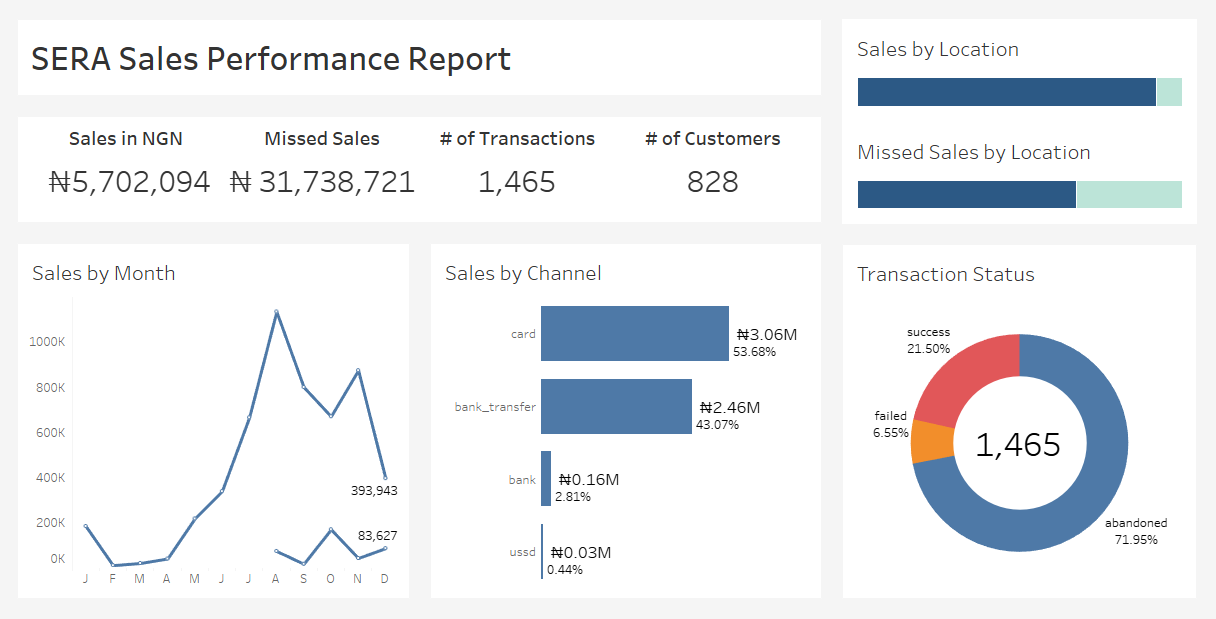

The dashboard page shown, as its layout file describes it:
{"tool":"tableau","page":{"name":"SERA Sales Dashboard","canvas":[1200,600],"ordinal":0},"visuals":[{"type":"text","box":[0,0,825,97]},{"type":"worksheet","title":"Sales by Location","mark":"Automatic","box":[825,0,375,113]},{"type":"legend","title":"Transaction Status","param":"[federated.1n0hgpd1yuvpae1ewlzkm18iepkz].[none:status:nk]","box":[1032,8,160,86]},{"type":"worksheet","title":"KPIs","mark":"Automatic","box":[0,97,825,127]},{"type":"worksheet","title":"Missed Sales by Location ","mark":"Automatic","box":[825,113,375,112]},{"type":"worksheet","title":"Sales by Month","mark":"Line","rows":["Calculation_1266918917571502081","Calculation_1266918917571502081"],"cols":["date"],"box":[0,224,412.9,376]},{"type":"worksheet","title":"Sales by Channel","mark":"Bar","rows":["channel"],"cols":["Calculation_1266918917571502081","Calculation_1266918917571502081"],"box":[412.9,224,412,376]},{"type":"worksheet","title":"Transaction Status","mark":"Circle","rows":["Calculation_1266918917586243595","Calculation_1266918917586243595"],"box":[825,225,375,375]}]}

Visuals, with their boxes in screenshot pixels (x1, y1, x2, y2), scaled from the page's 1200x600 canvas onto the 1216x619 screenshot:
text: {"left": 0, "top": 0, "right": 836, "bottom": 100}
"Sales by Location" worksheet: {"left": 836, "top": 0, "right": 1215, "bottom": 117}
"Transaction Status" legend: {"left": 1046, "top": 8, "right": 1208, "bottom": 97}
"KPIs" worksheet: {"left": 0, "top": 100, "right": 836, "bottom": 231}
"Missed Sales by Location " worksheet: {"left": 836, "top": 117, "right": 1215, "bottom": 232}
"Sales by Month" worksheet (Line marks): {"left": 0, "top": 231, "right": 418, "bottom": 618}
"Sales by Channel" worksheet (Bar marks): {"left": 418, "top": 231, "right": 836, "bottom": 618}
"Transaction Status" worksheet (Circle marks): {"left": 836, "top": 232, "right": 1215, "bottom": 618}
